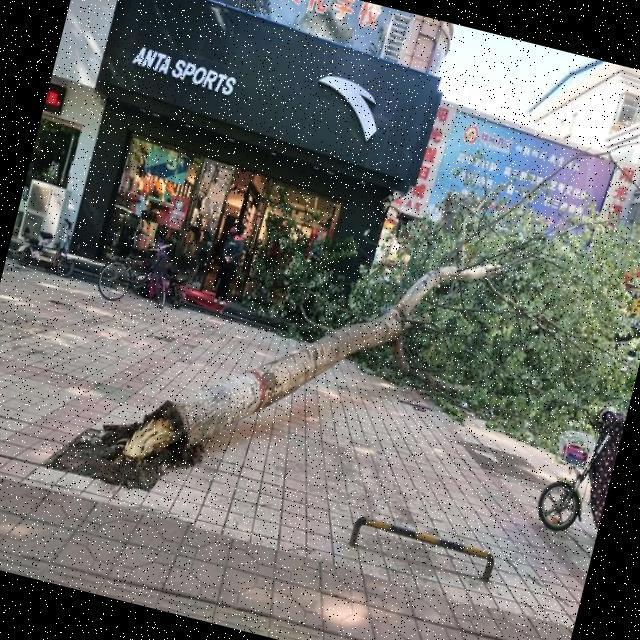fallen_object: (91, 95, 640, 586)
